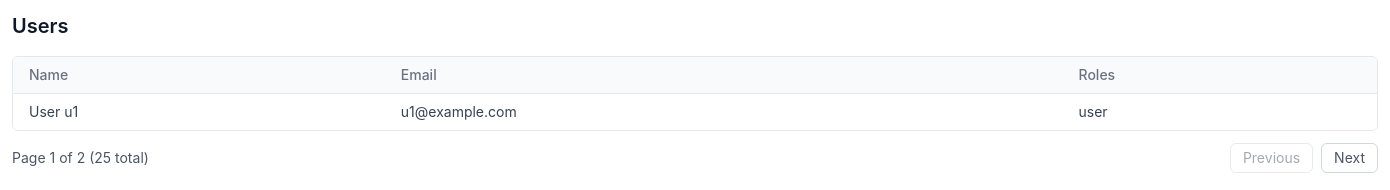
Test: UsersPage › requests the next page with the correct offset when Next is clicked — a real new fetch, not client-side re-slicing
Expected: the text "u1@example.com" is shown, [385,94,1062,130]
Step 1. Click the button "Next" → (1350, 158), box [1321,143,1378,173]
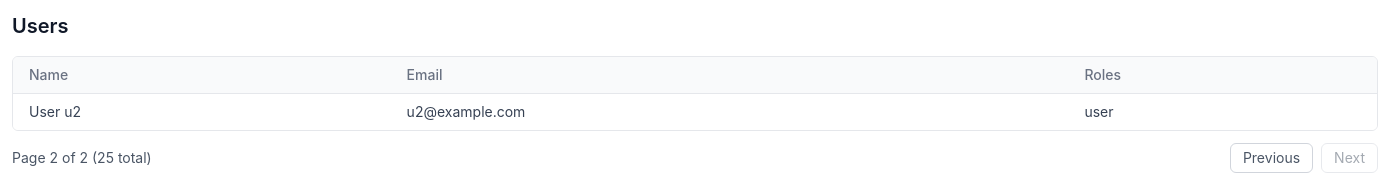
Result: the text "u2@example.com" is shown at [391,94,1068,130]
